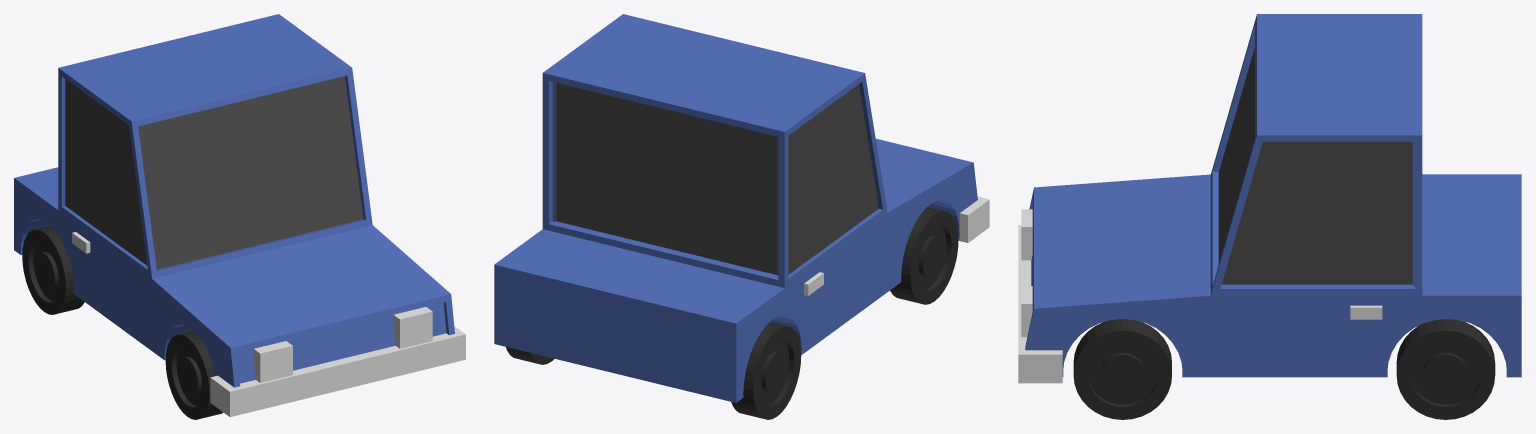
The model's file is AutoJunto.fbx.
3 renders of one model, left to right at view 1: azimuth 30°, elevation 25°; view 2: azimuth 150°, elevation 25°; view 3: azimuth 270°, elevation 25°, orthographic. The views are drawn at different scales.
Visible parts, largest first — view 1: Auto; view 2: Auto; view 3: Auto.
Boxes of the visible parts, x1=… form: Auto: x1=14, y1=14, x2=465, y2=419; Auto: x1=494, y1=14, x2=989, y2=419; Auto: x1=1018, y1=14, x2=1521, y2=419.
Bounding box in the file's own units: 580 × 589 × 952.
